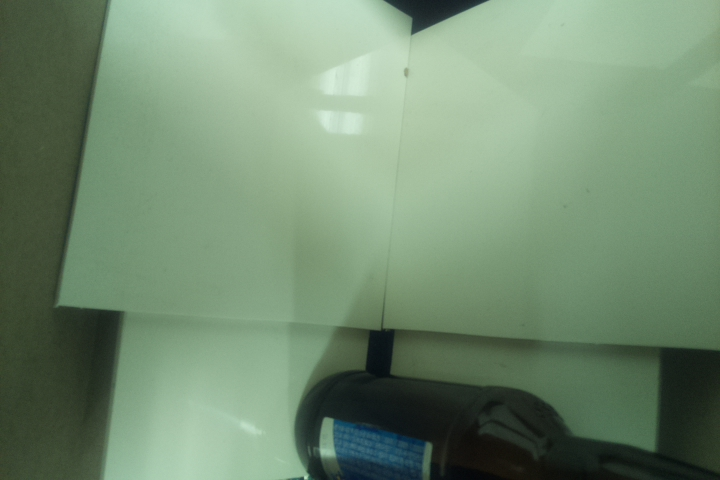makju: (292, 370, 720, 479)
